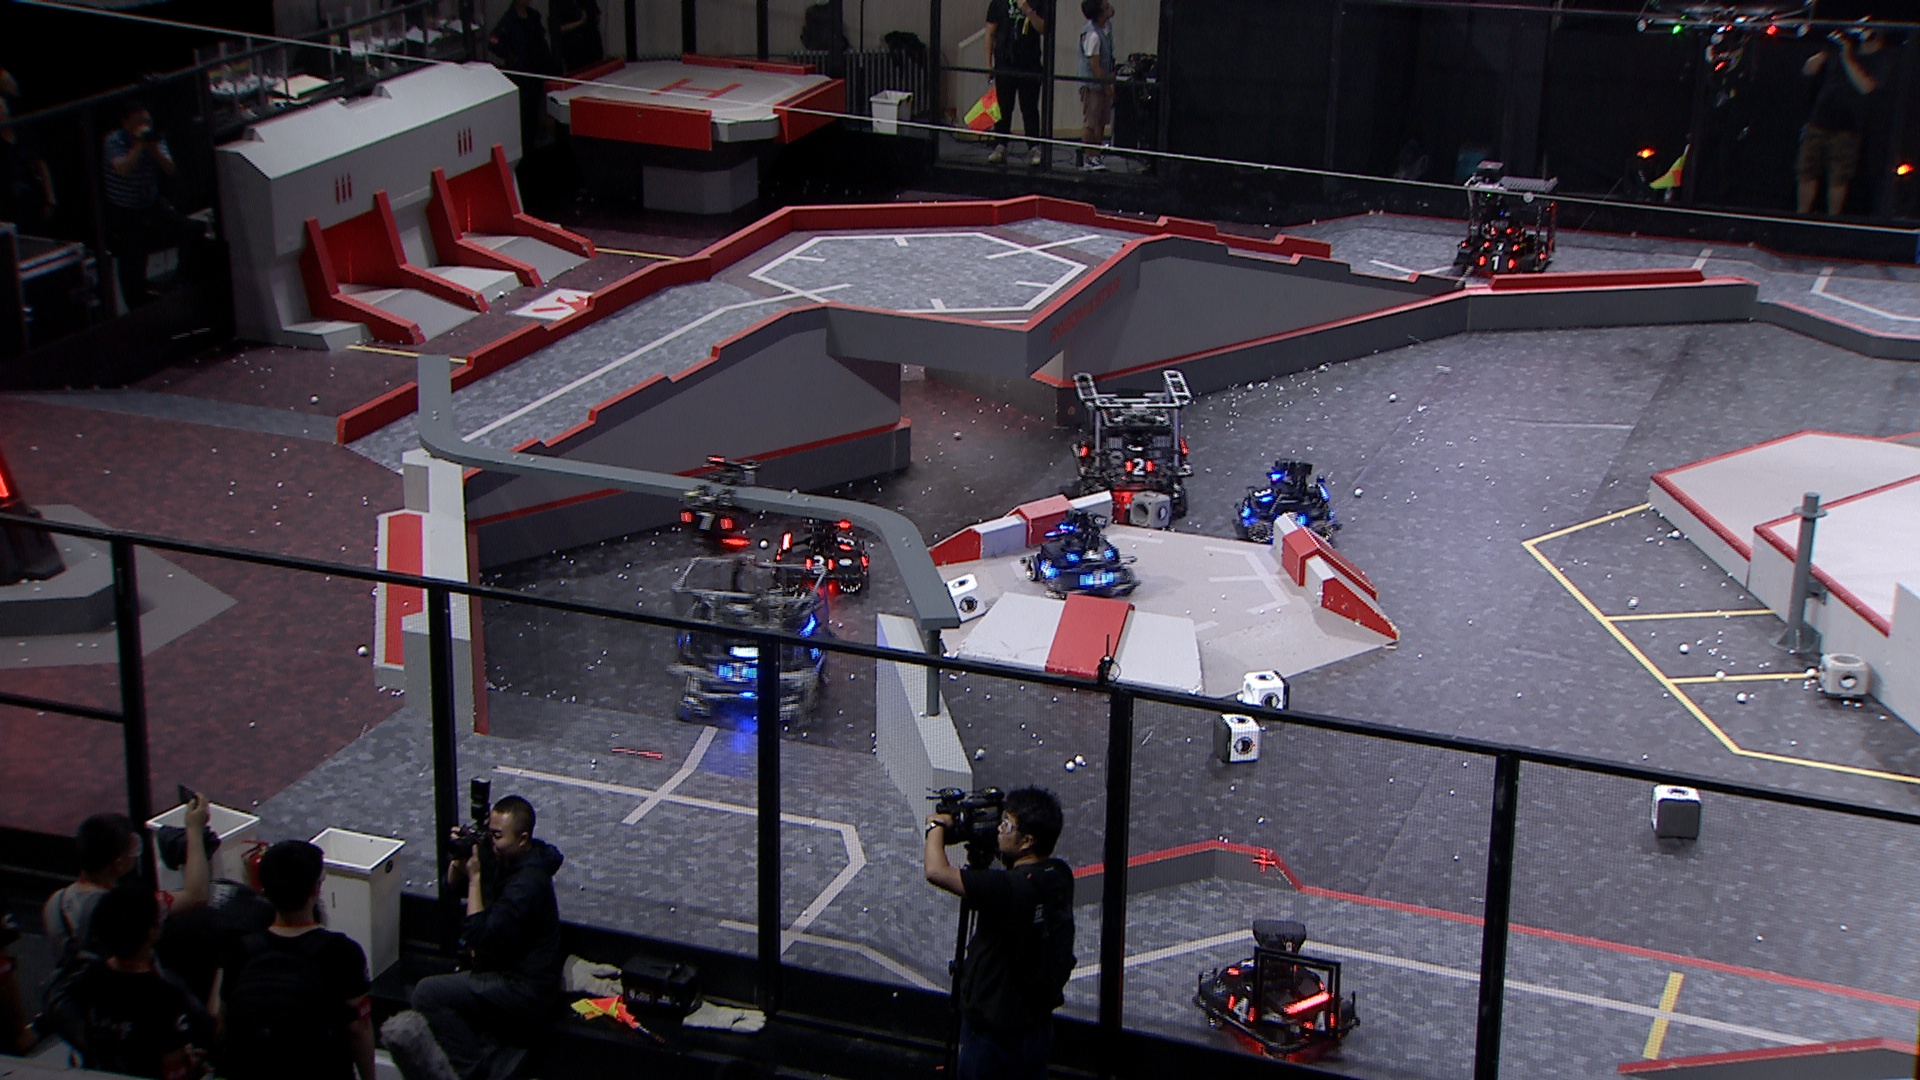armor: (679, 508, 735, 533), (1224, 994, 1259, 1025), (717, 659, 760, 684), (1304, 1006, 1337, 1033), (1067, 546, 1112, 564), (1079, 568, 1116, 591), (1477, 253, 1516, 273), (1125, 456, 1154, 479), (804, 553, 836, 572), (1482, 239, 1520, 253), (1229, 957, 1255, 977), (1038, 556, 1058, 582), (835, 533, 858, 553), (1251, 487, 1276, 505), (1238, 498, 1254, 520), (1538, 243, 1552, 262)
car: (670, 553, 835, 737), (1192, 916, 1364, 1062), (1069, 367, 1196, 513), (1452, 160, 1557, 284), (1021, 508, 1145, 604), (771, 498, 873, 599), (1234, 458, 1342, 547)
watcher: (678, 455, 764, 555)
